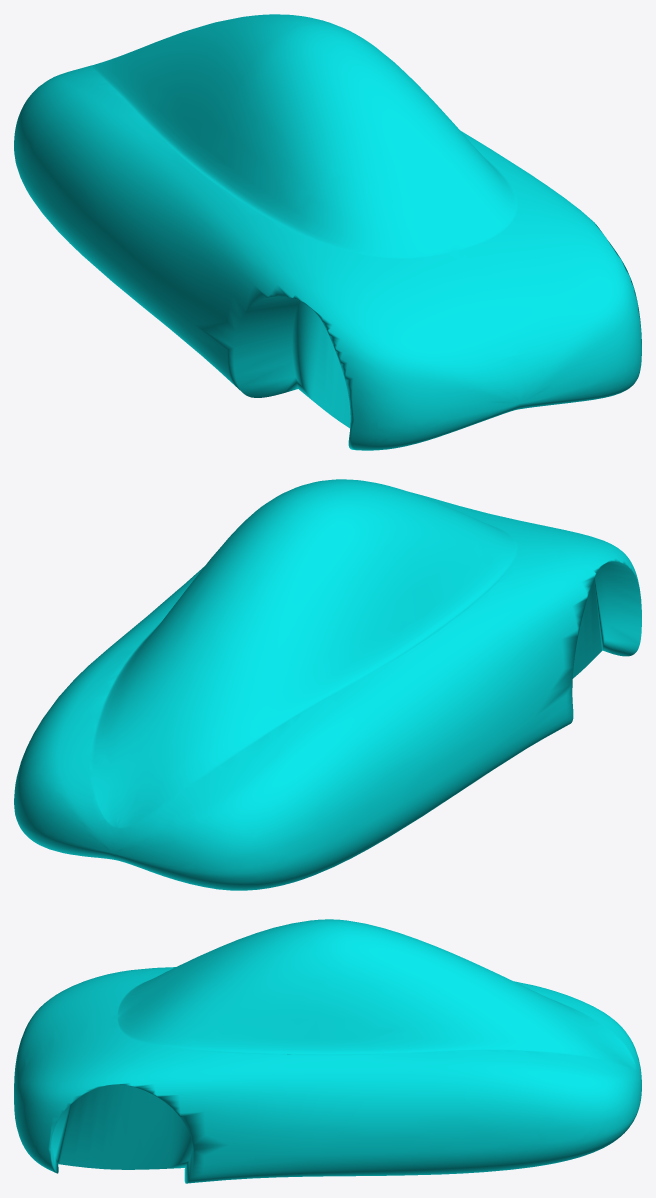
The model's file is car.glb.
3 renders of one model, top to bottom at view 1: azimuth 30°, elevation 25°; view 2: azimuth 150°, elevation 25°; view 3: azimuth 270°, elevation 25°, orthographic. The views are drawn at different scales.
Visible parts, largest first — view 1: car; view 2: car; view 3: car.
Part boxes in pixels (x1,y1,x2,y2): car: [14, 14, 641, 450]; car: [14, 479, 641, 890]; car: [14, 919, 641, 1183].
Size of the model in its own units: 125 by 92.5 by 260.
